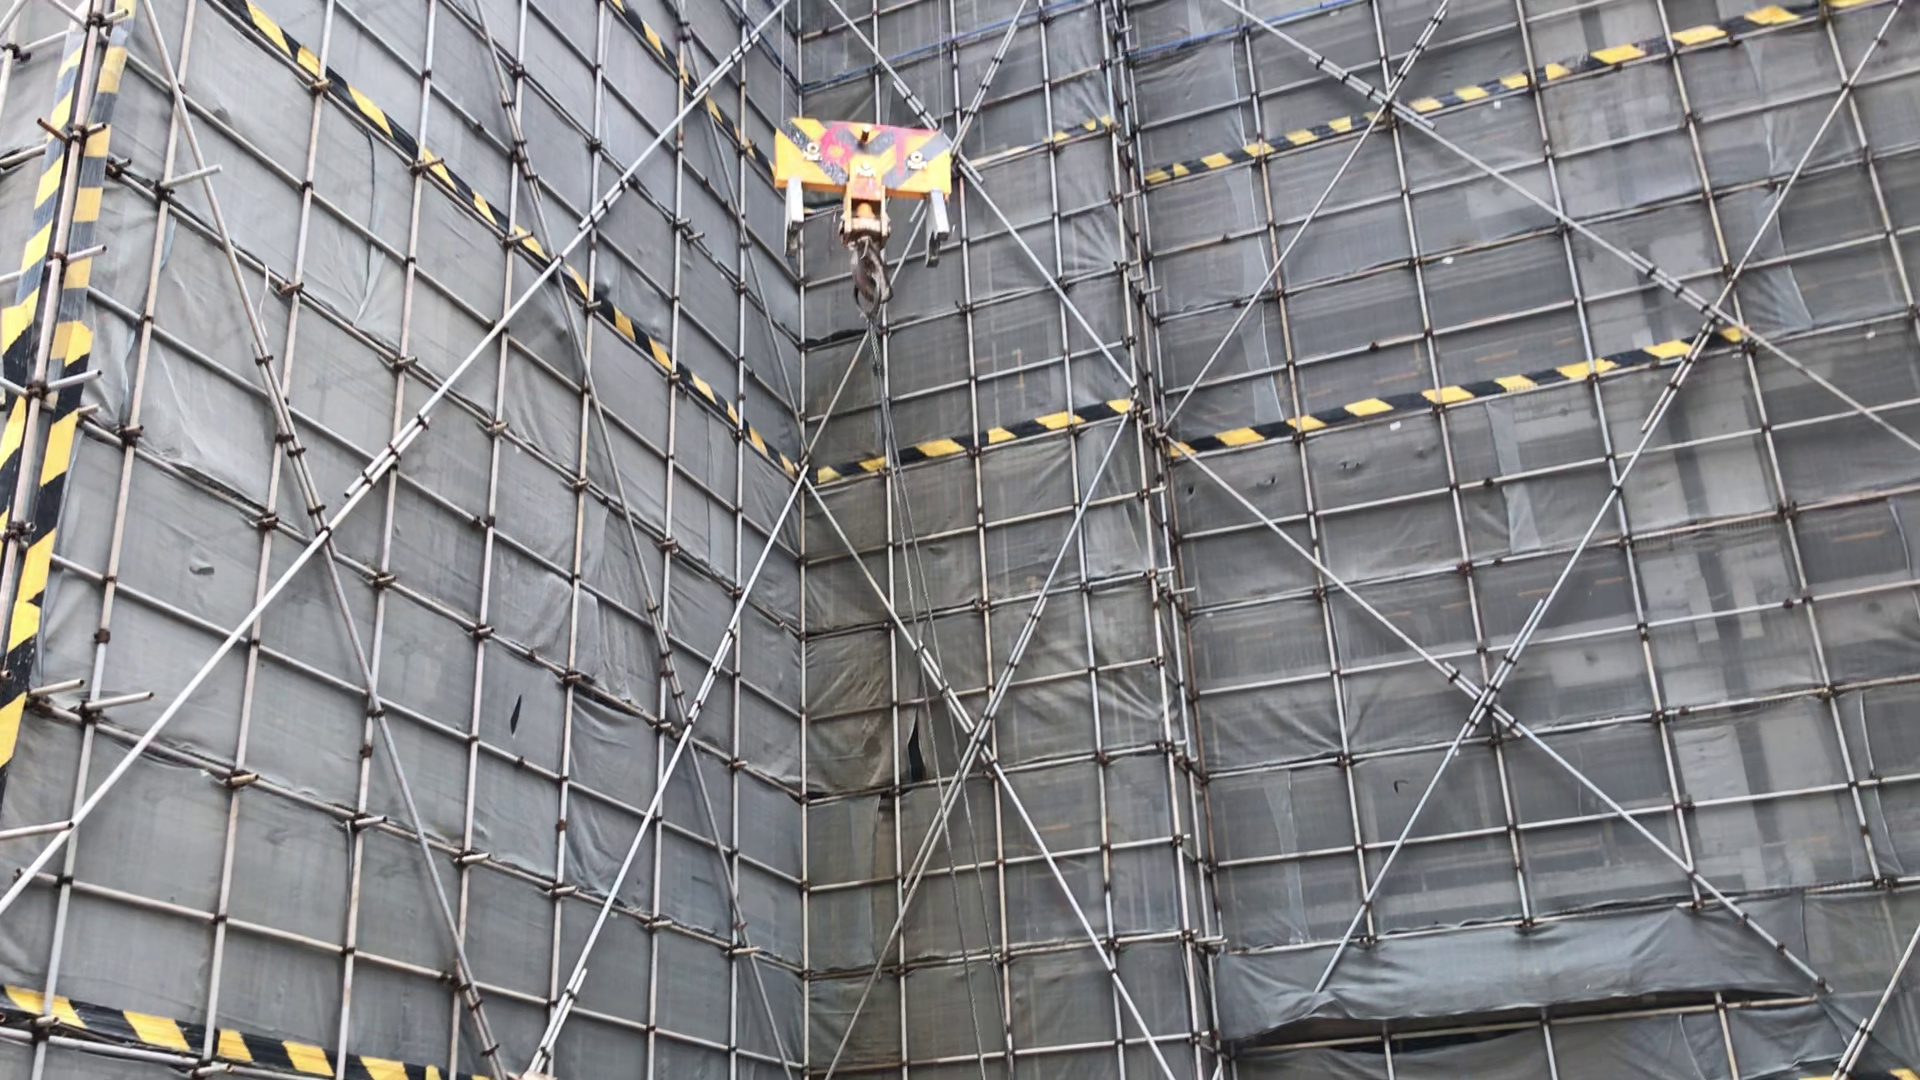hook: (775, 113, 953, 307)
